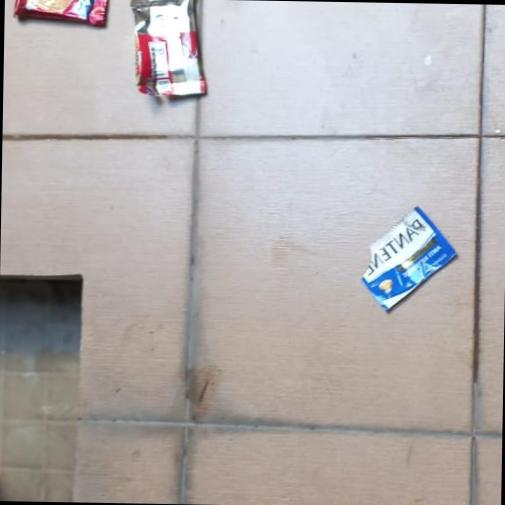Plastik: (359, 205, 458, 313), (128, 0, 207, 96), (14, 0, 109, 27)
